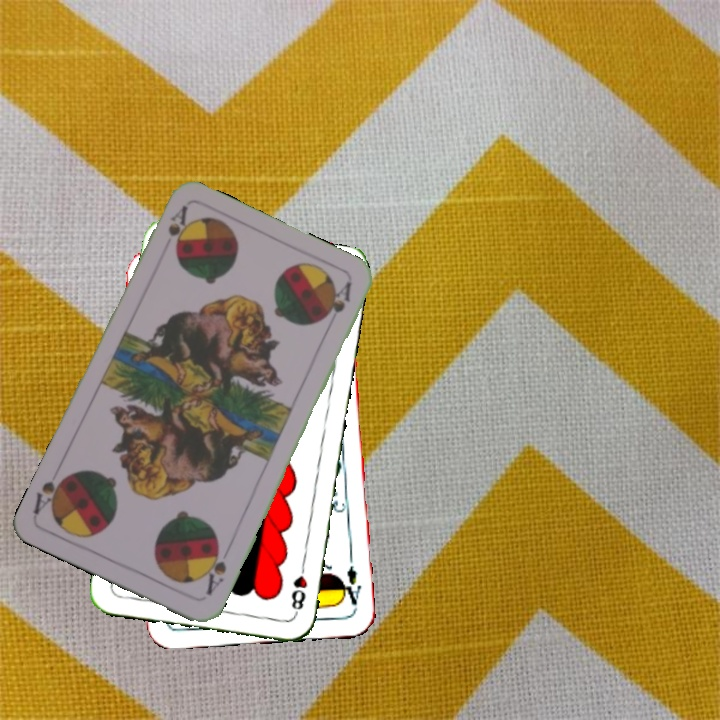EA: (337, 561, 364, 611)
H8: (287, 558, 310, 617)
SA: (199, 540, 229, 598), (163, 202, 191, 254)
